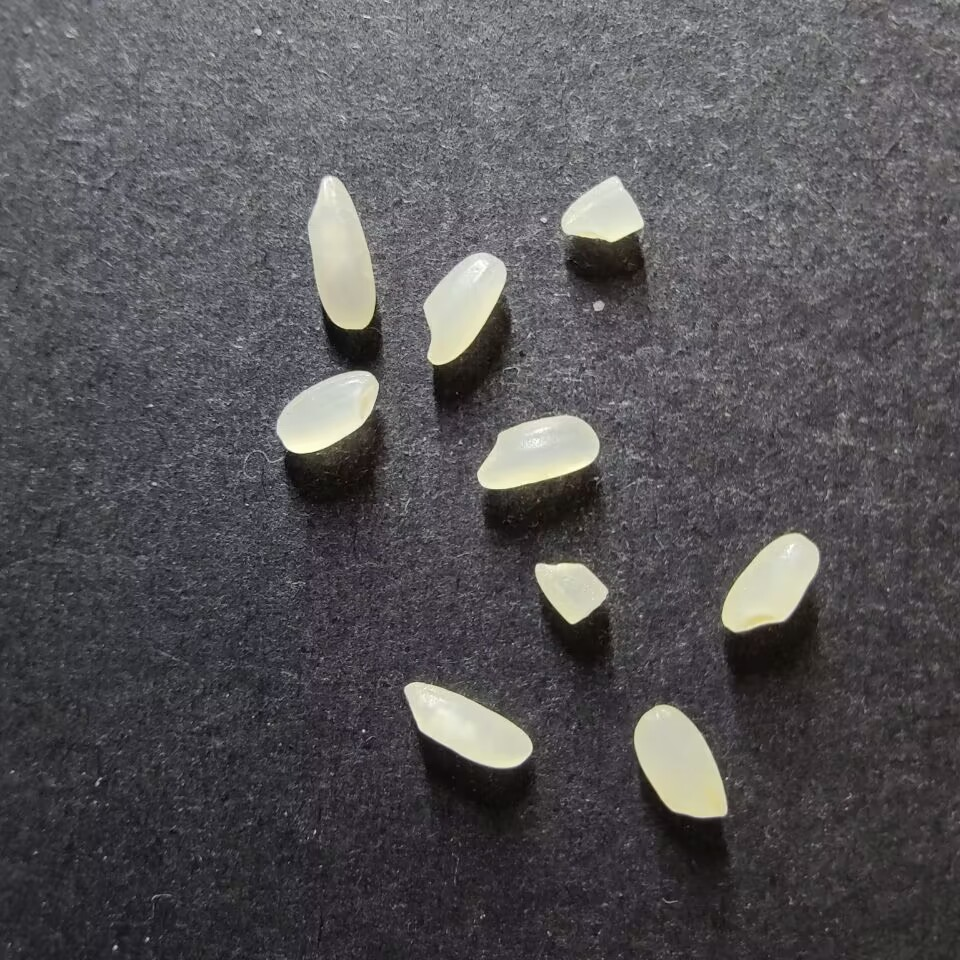broken: (560, 176, 643, 242), (533, 561, 607, 625)
rice: (403, 681, 532, 768), (632, 703, 728, 818), (307, 175, 375, 330), (720, 532, 820, 632), (422, 251, 506, 366), (476, 414, 600, 489), (275, 370, 379, 453)
